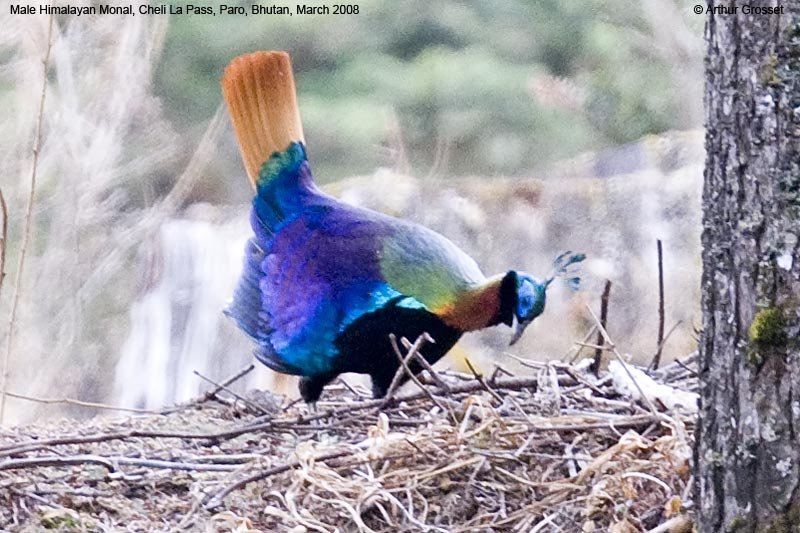bird: (186, 29, 588, 421)
